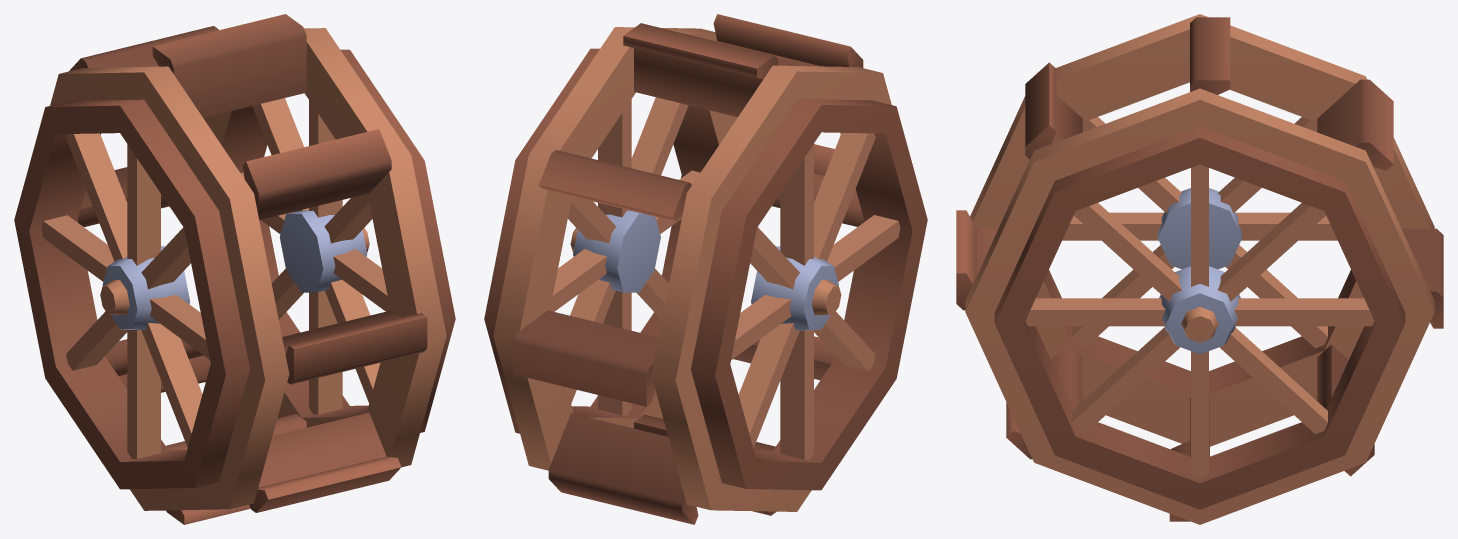
File: watermill.glb
The picture shows the model from 3 angles, left to right: view 1: azimuth 30°, elevation 25°; view 2: azimuth 150°, elevation 25°; view 3: azimuth 270°, elevation 25°; orthographic projection. The views are drawn at different scales.
Visible parts, largest first — view 1: watermill-wide; view 2: watermill-wide; view 3: watermill-wide.
Boxes of the visible parts, left/top/right/bottom form: watermill-wide: left=14, top=14, right=455, bottom=524; watermill-wide: left=484, top=14, right=927, bottom=524; watermill-wide: left=956, top=14, right=1443, bottom=524.
Bounding box in the file's own units: 1.05 × 1.8 × 1.8.
1 material, 1 textured.
